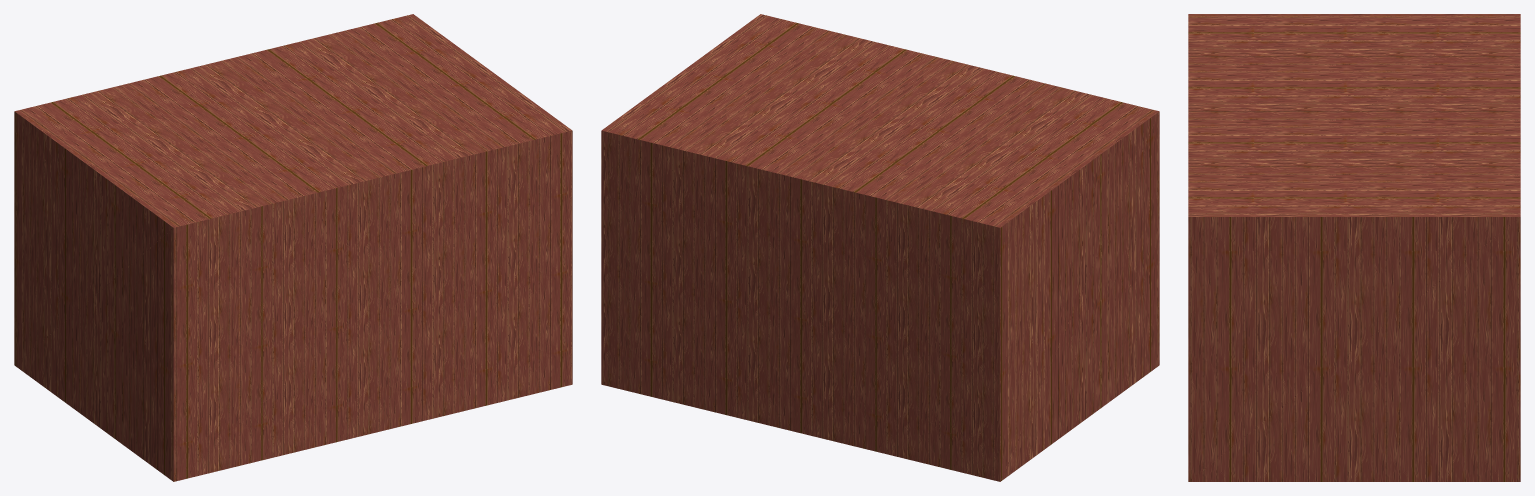
The picture shows the model from 3 angles, left to right: view 1: azimuth 30°, elevation 25°; view 2: azimuth 150°, elevation 25°; view 3: azimuth 270°, elevation 25°; orthographic projection. The views are drawn at different scales.
Parts seen in each view (by area): view 1: Plane.008; view 2: Plane.008; view 3: Plane.008.
Boxes of the visible parts, x1,y1,x2,y2 form: Plane.008: (14,14,572,481); Plane.008: (601,14,1159,481); Plane.008: (1188,14,1520,481).
Size of the model in its own units: 1275 by 776 by 881.
1 material, 1 textured.
